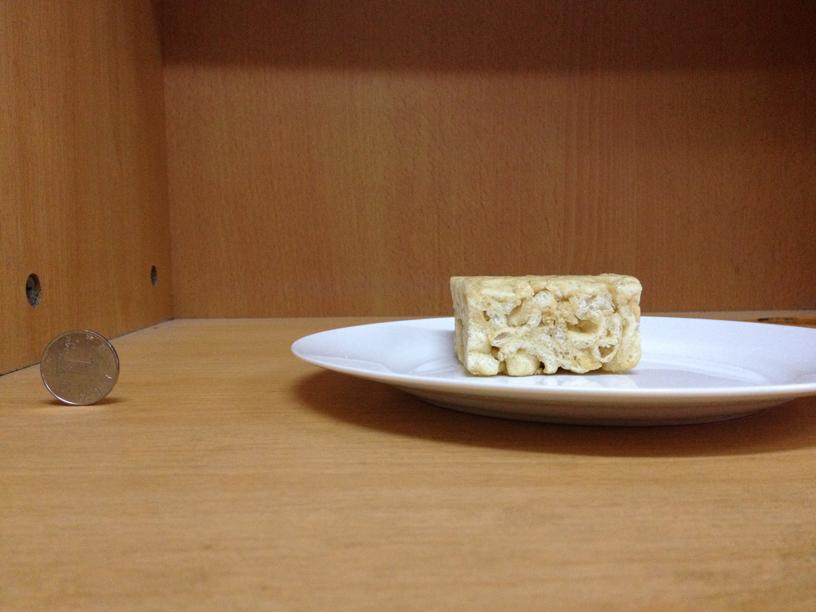coin: (43, 331, 120, 407)
sachima: (440, 268, 646, 374)
